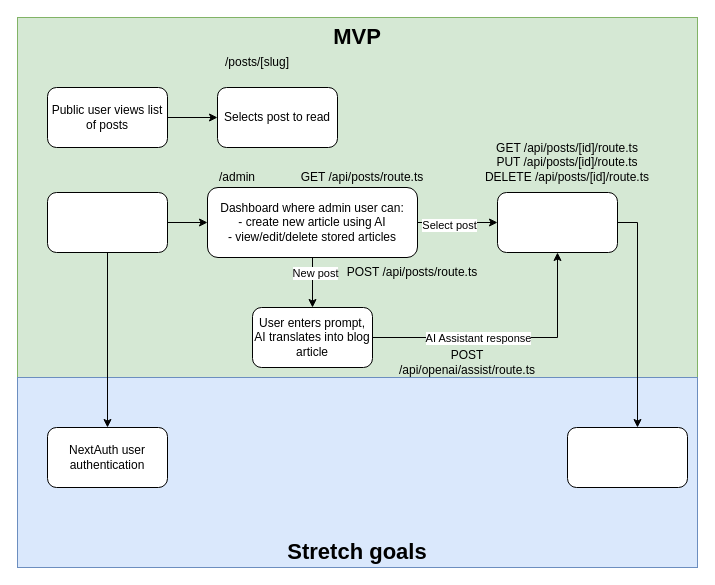
Image size: 715x585. Some labels were removed from this diagram. The box of each missing label's shape, as (x1, y1, x2, y2) in pixels:
Admin login: (46, 192, 168, 252)
Scheduled publishing: (566, 426, 688, 488)
User can read, edit & save article, or delete or publish: (496, 192, 618, 252)
